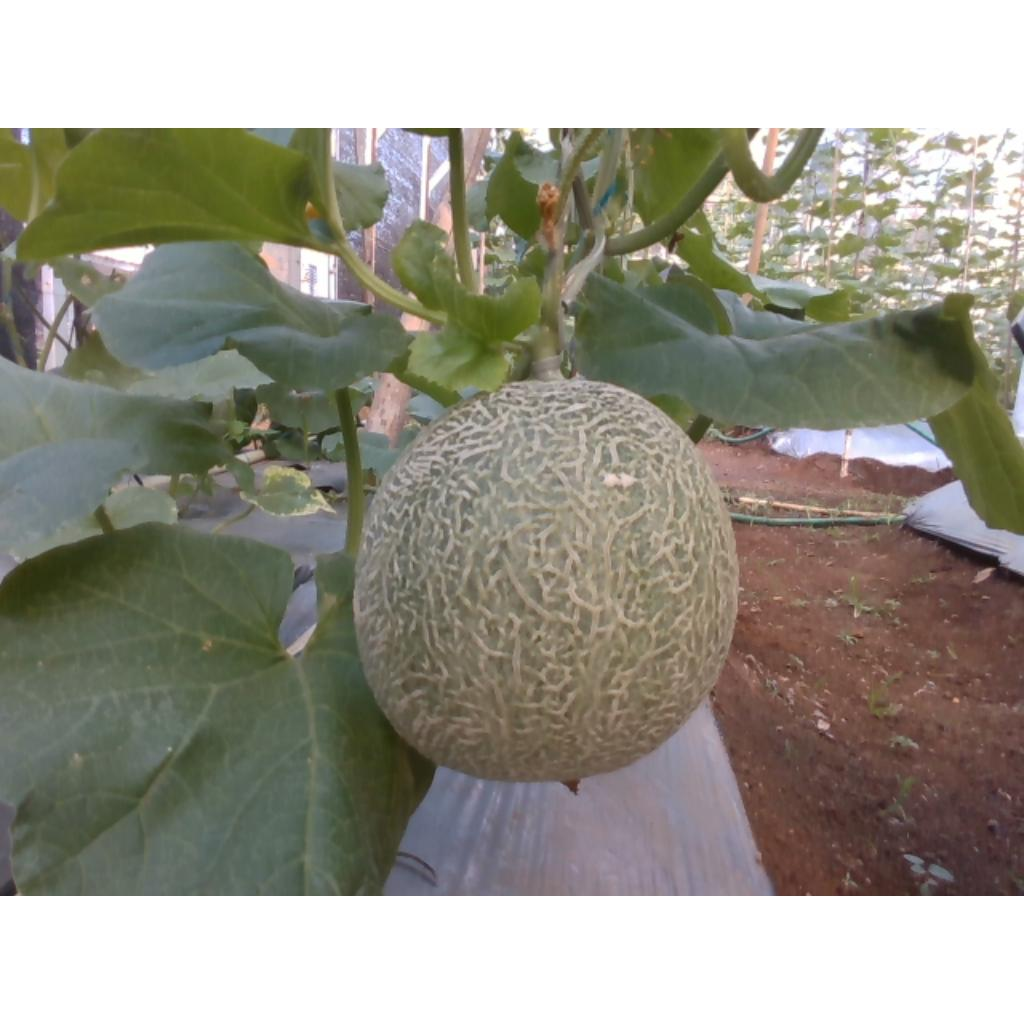melon: (355, 379, 741, 782)
